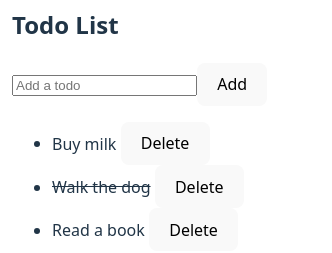
it: TodoList component › can delete a todo
Expected: the text "Walk the dog" is shown, [52,176,151,198]
Click the button with test id "delete-2" at {"x": 199, "y": 186}, box [155,165,244,208]
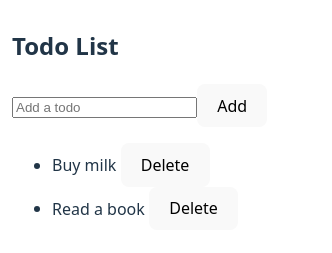
Now the text "Walk the dog" is gone
